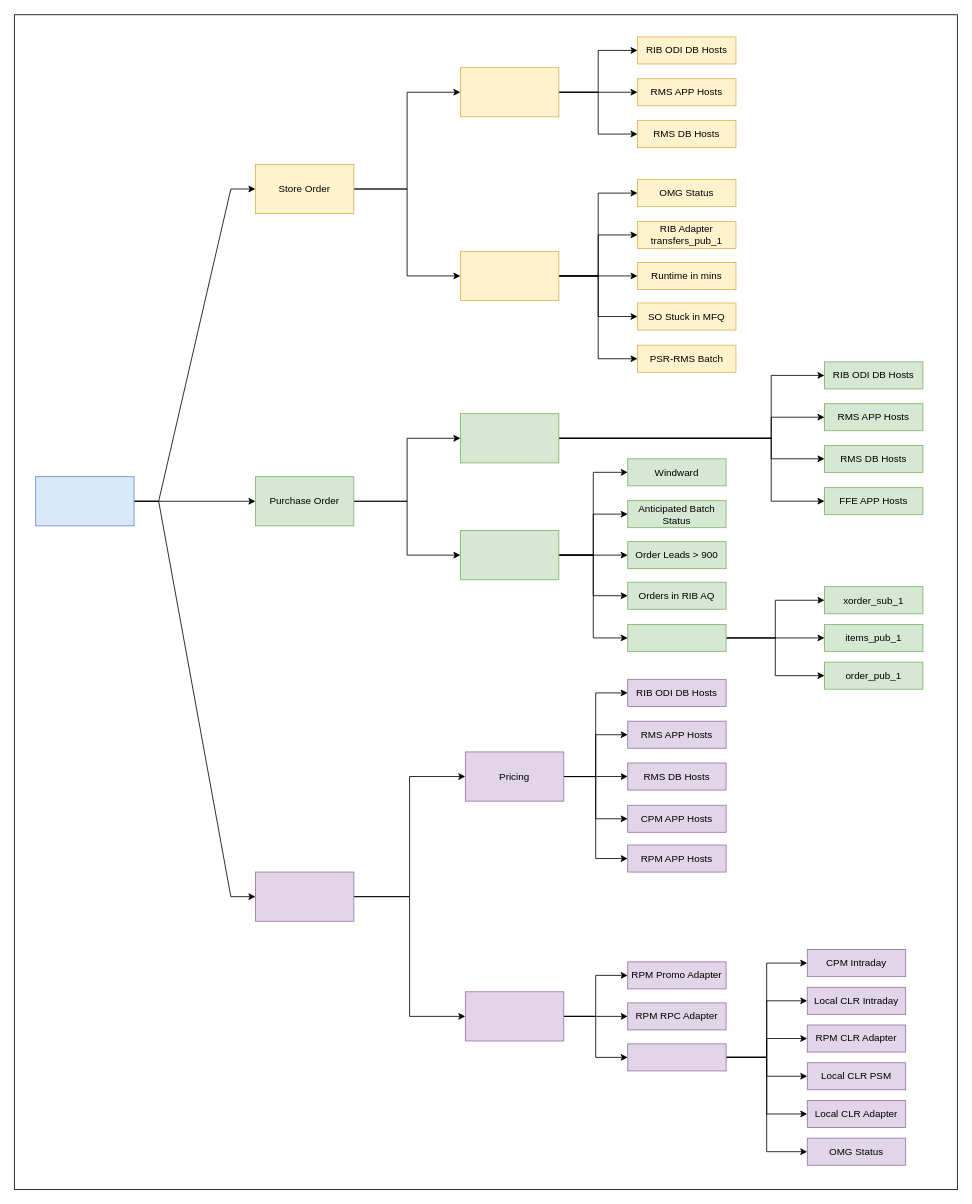
Some shapes in this 972 by 1204 pixel diagram are drawn without their labels. Here are the shapes that lost their labels. From the top down, the box of each, then its label:
(460, 67, 559, 117): Store Order Infrastructure
(460, 251, 559, 301): Store Order Alerts
(460, 413, 559, 463): OR Infrastructure
(35, 476, 134, 526): Buying and Merchandising
(460, 530, 559, 580): PO Services (Alerts)
(627, 624, 726, 651): RIB Adapters
(255, 871, 354, 921): Price Clearance
(465, 991, 564, 1041): Price Clearance Infrastructure
(627, 1043, 726, 1071): Clearance
